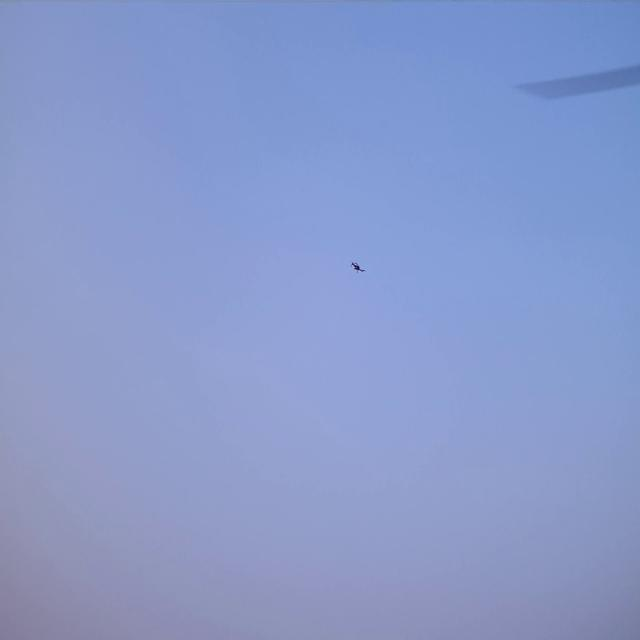UAV: (352, 262, 364, 271)
